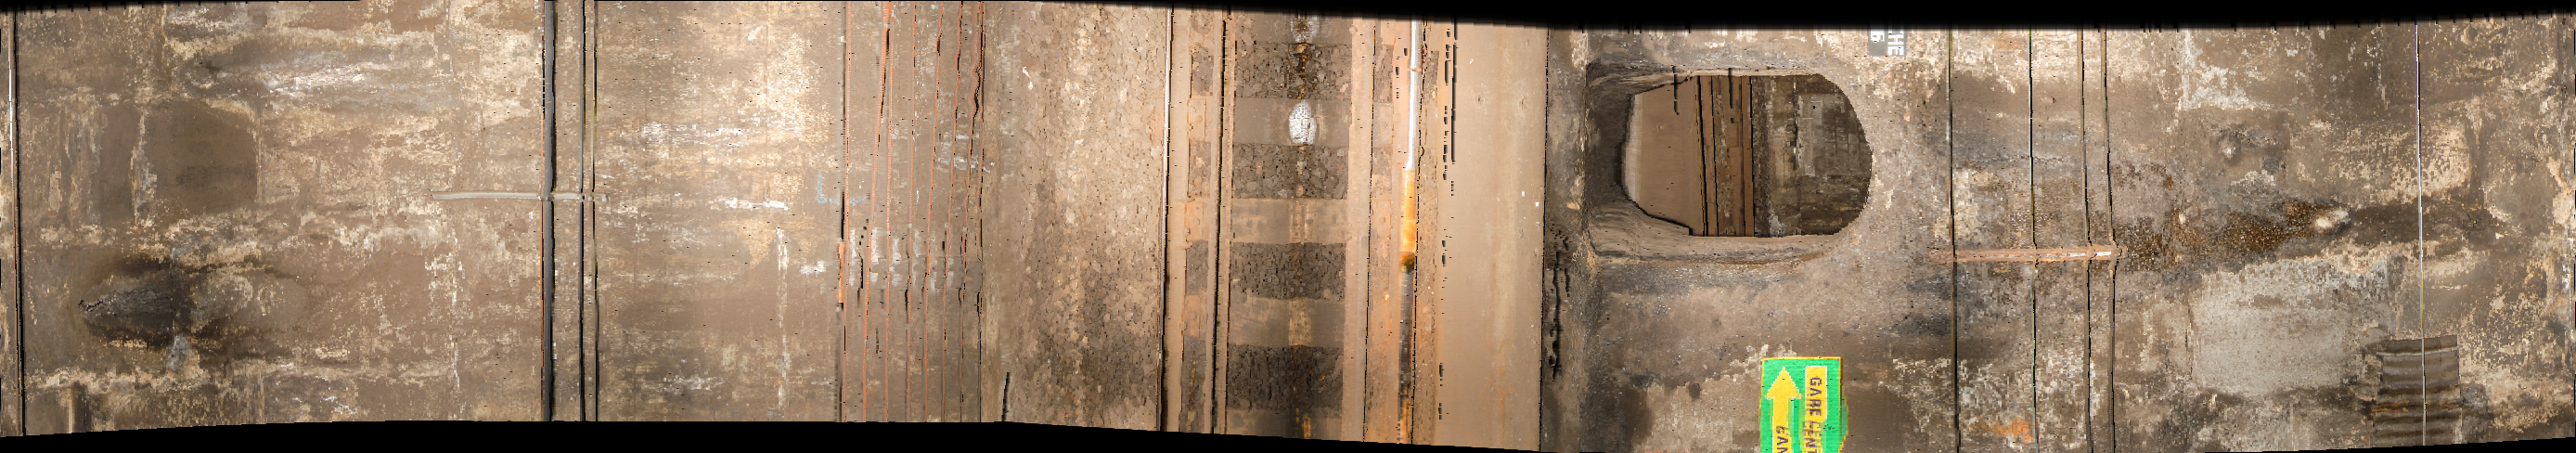pipes: (838, 3, 999, 445), (2024, 30, 2127, 453), (532, 2, 618, 423), (1930, 30, 1981, 453)
sign: (1753, 353, 1843, 453)
tracks: (1163, 7, 1452, 453)
